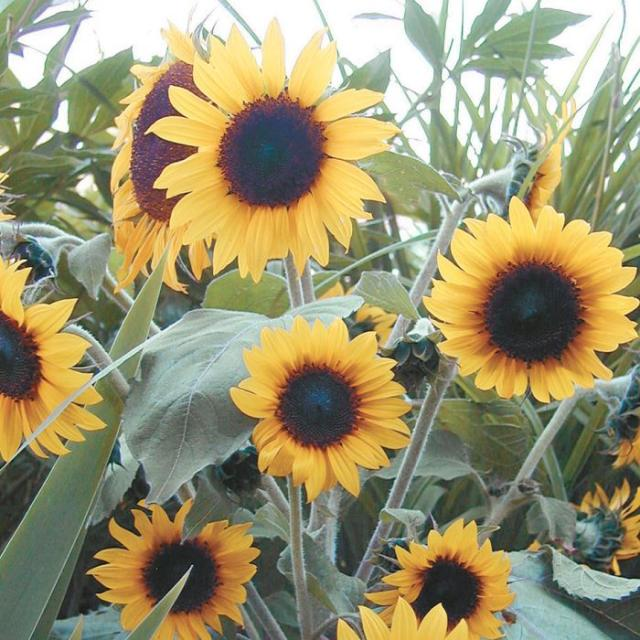sunflower: (146, 15, 404, 308), (422, 194, 640, 398), (228, 306, 418, 498), (0, 254, 123, 465), (86, 499, 256, 640), (364, 509, 527, 640)
